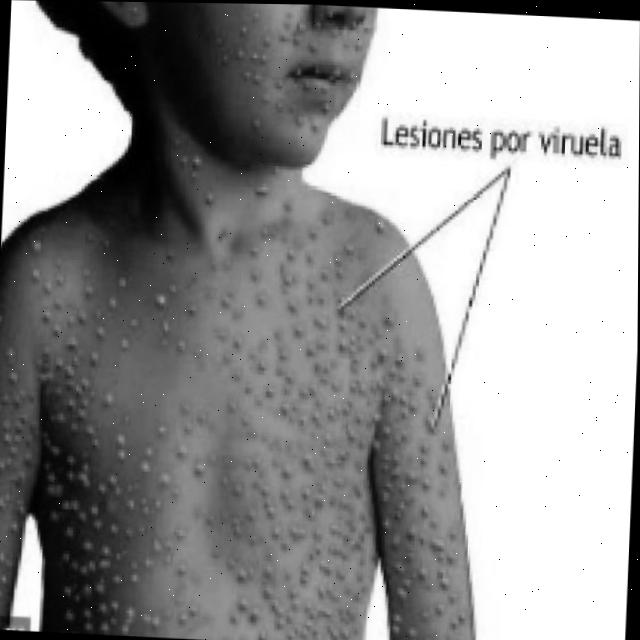Eczema: (0, 270, 456, 640), (165, 2, 356, 141)
